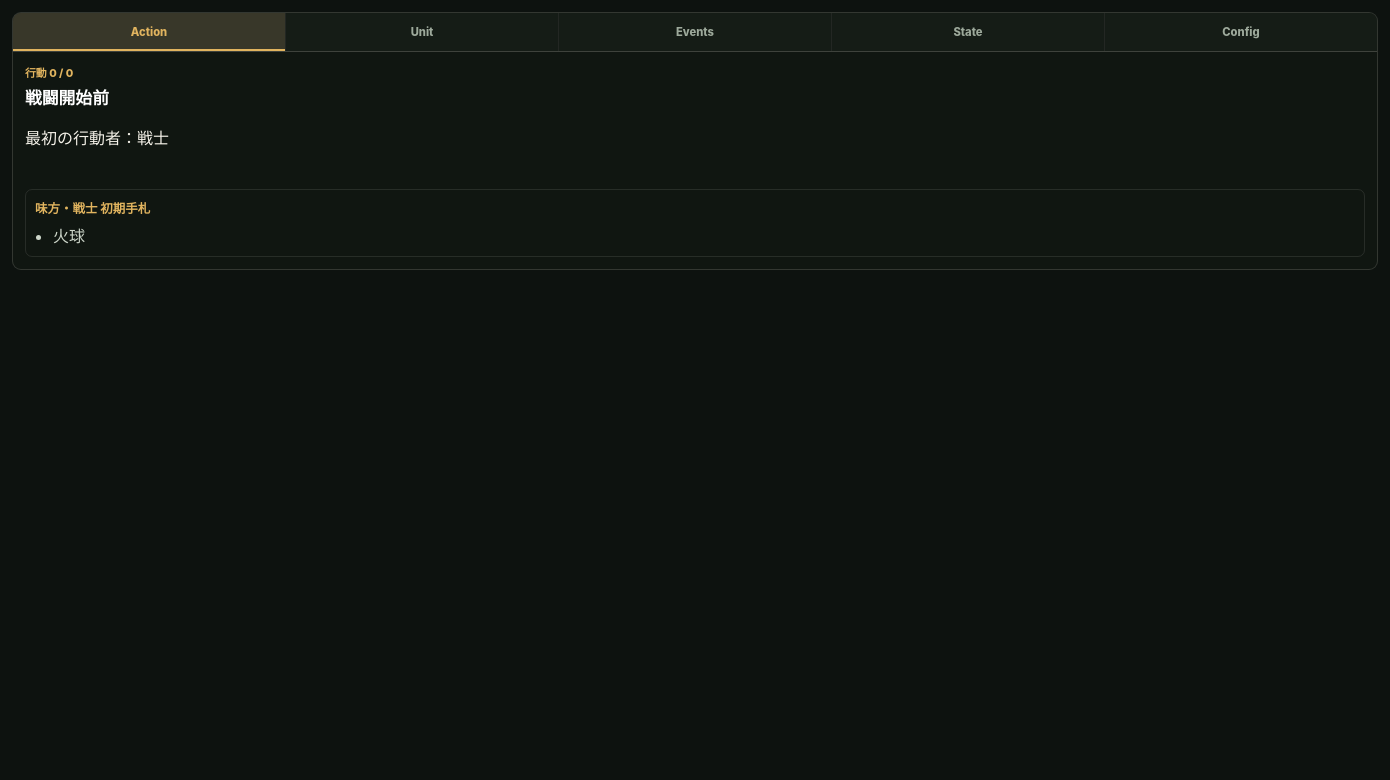
Test: ReplayInspector › switches one inspector body by tabs
Expected: the element with class "initial-battle-state" is shown, [25,64,1365,257]
Click the button "Events" at (695, 32), box [559,13,831,51]
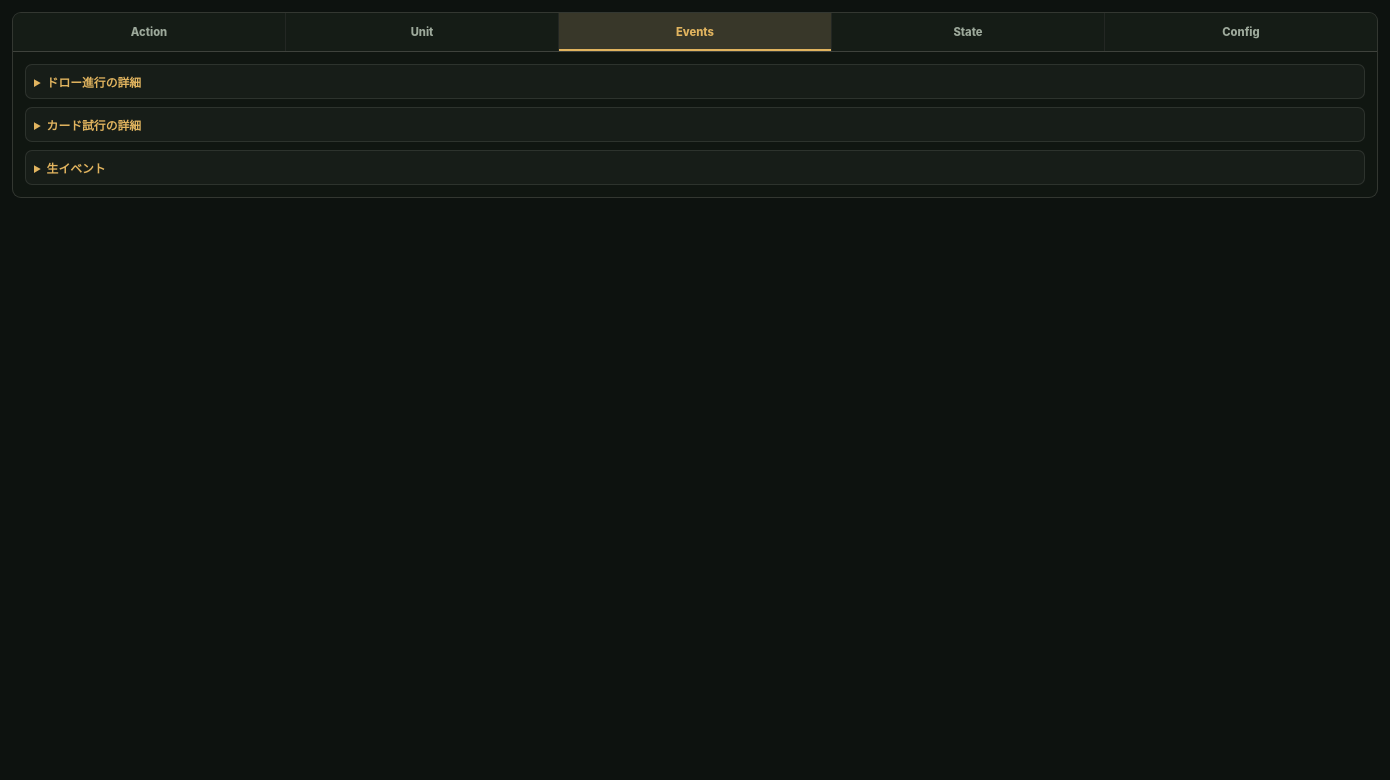
Result: the element with class "debug-panel" is shown at [25,64,1365,185]
Click the button "Unit" at (422, 32), box [286,13,558,51]
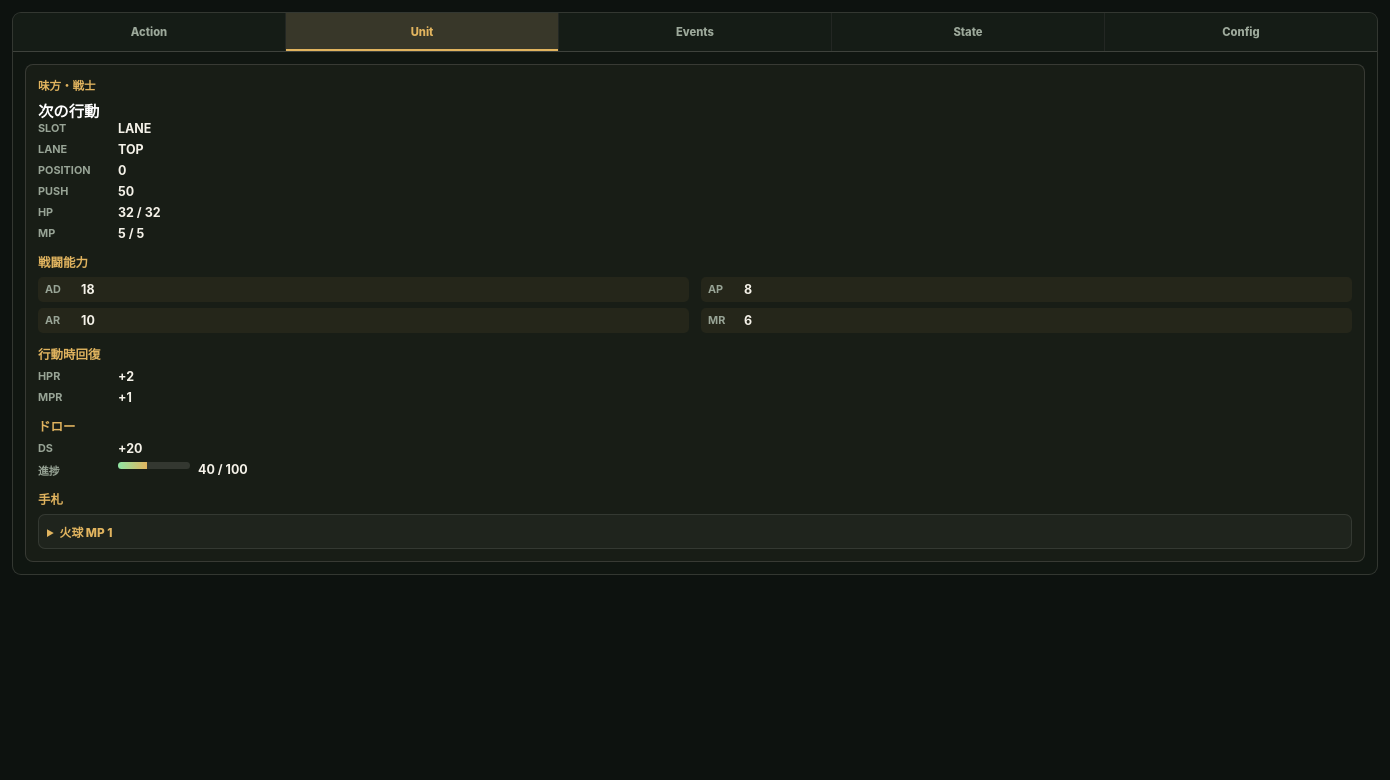
Result: the text "HPR" is shown at [38,369,60,383]
Result: the text "火球" is shown at [60,526,112,540]
